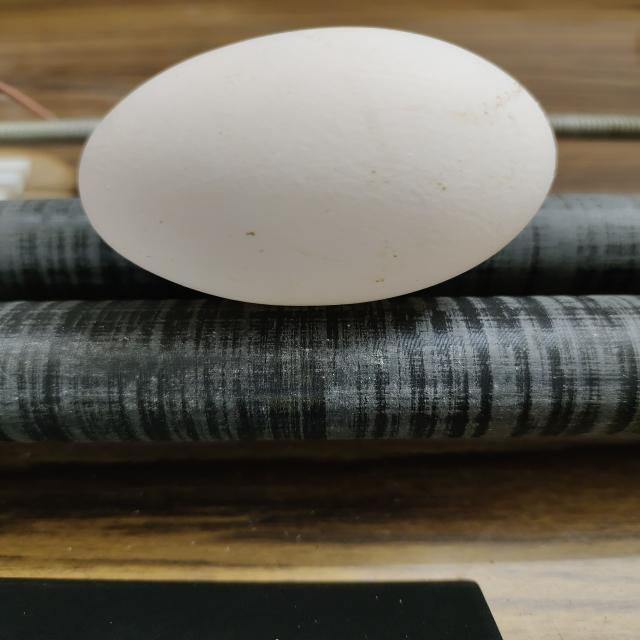Eggs: (72, 24, 559, 308)
